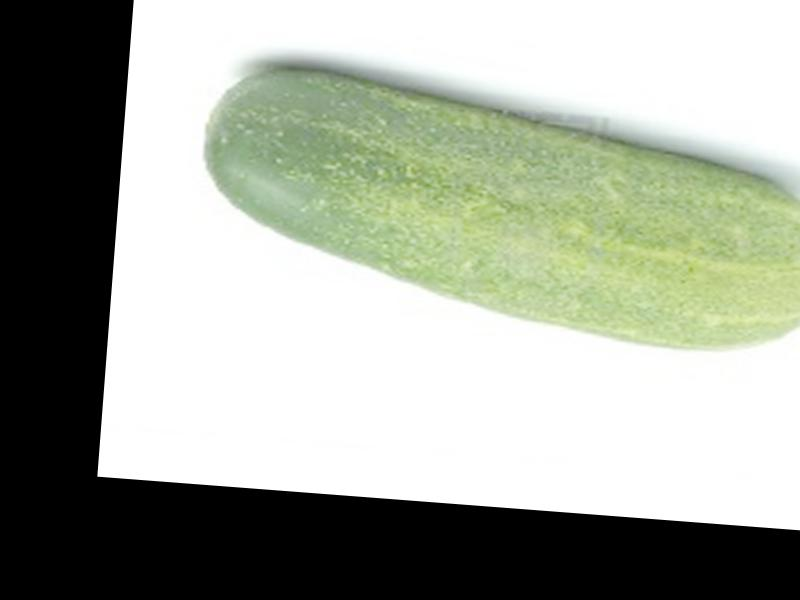Cucumber: (194, 60, 800, 359)
